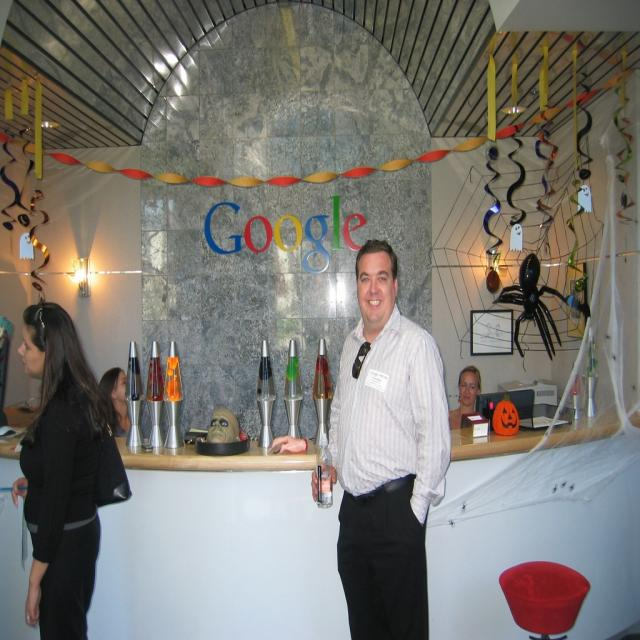google: (202, 191, 370, 280)
